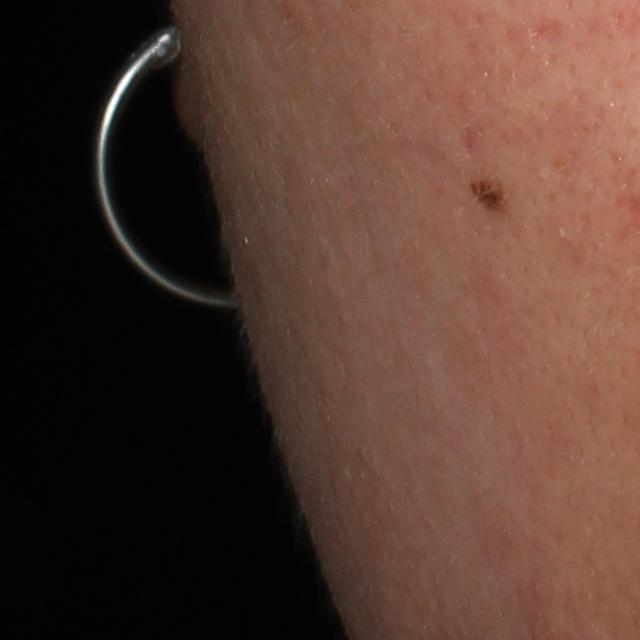atrophic_scar: (526, 12, 566, 55)
nevus: (465, 172, 512, 217)
